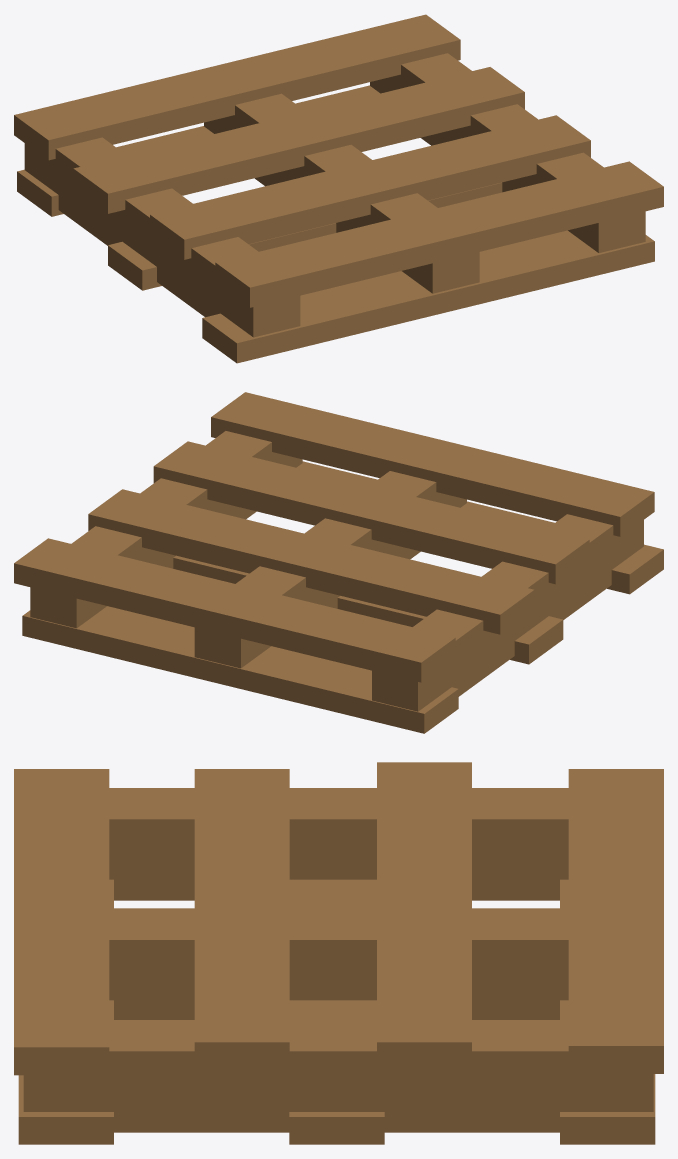
The model's file is wood_pallete.glb.
The picture shows the model from 3 angles, top to bottom: view 1: azimuth 30°, elevation 25°; view 2: azimuth 150°, elevation 25°; view 3: azimuth 270°, elevation 25°; orthographic projection. The views are drawn at different scales.
Visible parts, largest first — view 1: Cube; view 2: Cube; view 3: Cube.
Part boxes in pixels (x1=…): Cube: x1=14, y1=14, x2=663, y2=363; Cube: x1=14, y1=392, x2=663, y2=733; Cube: x1=14, y1=762, x2=663, y2=1144.
Size of the model in its own units: 14.2 by 2.37 by 13.65.
